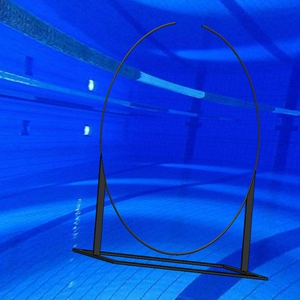circle: (72, 21, 270, 282)
